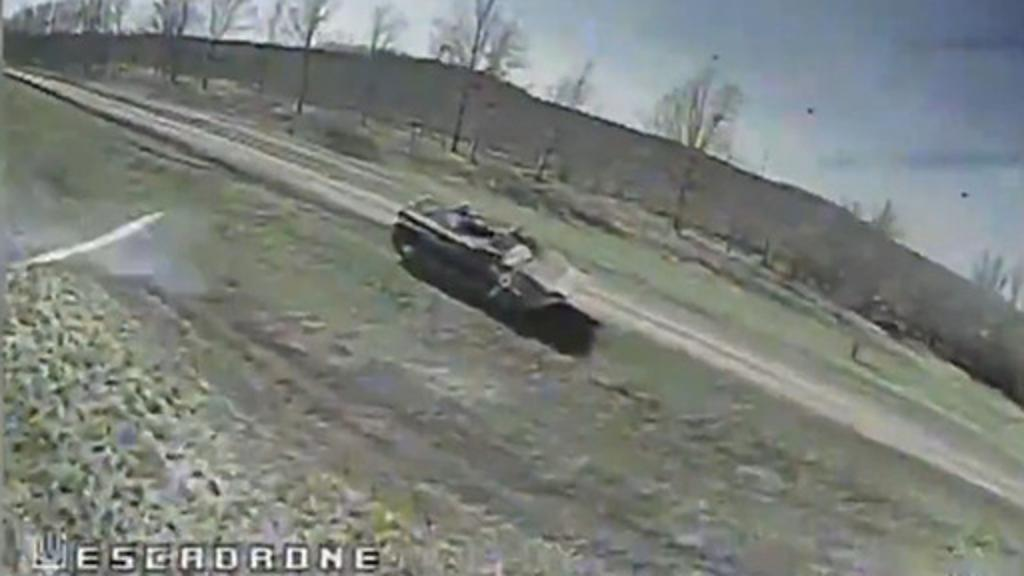APC-IFV: (380, 184, 584, 328)
